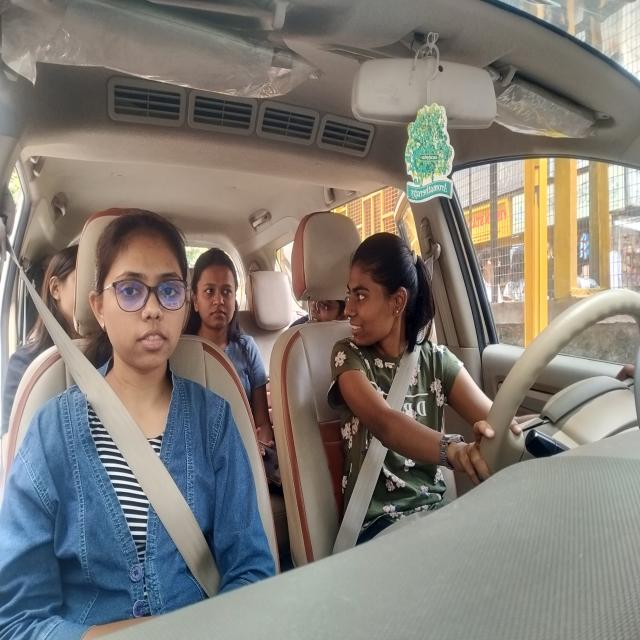LeftRight: (347, 227, 428, 360)
person: (93, 208, 191, 376), (194, 245, 240, 344), (44, 242, 84, 353), (304, 292, 342, 323)
talking: (349, 317, 367, 337)
